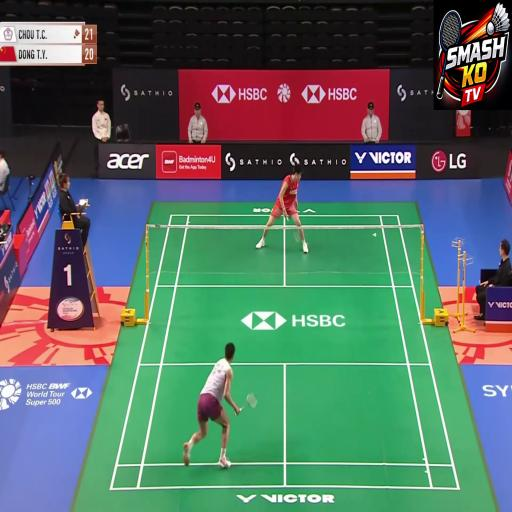player: (188, 345, 262, 484), (256, 138, 313, 267)
